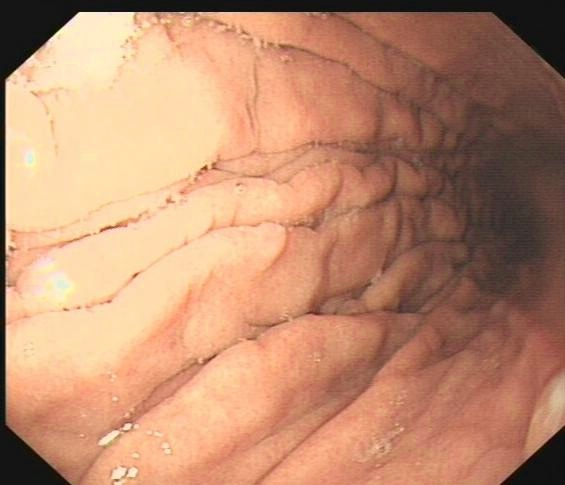Polyp: (233, 216, 293, 275)
